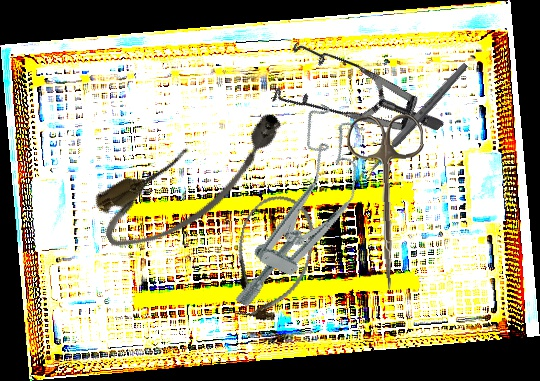Cannula: (86, 99, 303, 264), (219, 186, 325, 331)
Iris Scissors: (345, 112, 432, 292)
Speculum: (253, 1, 445, 199), (220, 100, 385, 328)
Surgical Spoon: (360, 61, 470, 181)
